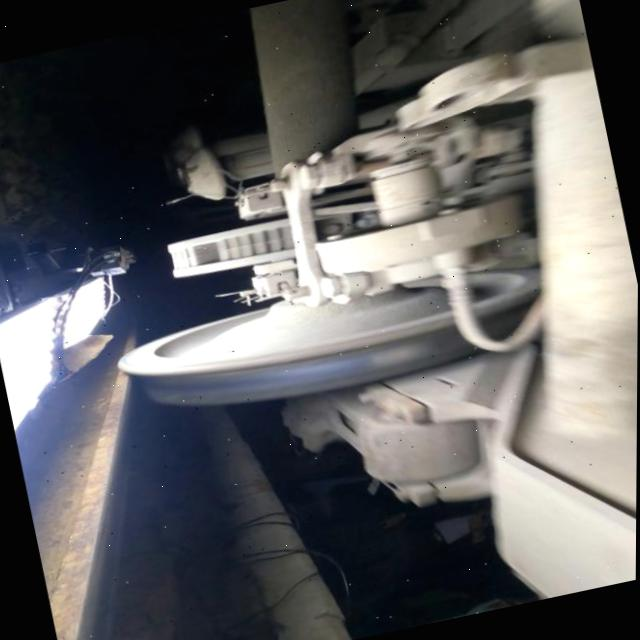Shelling: (371, 336, 436, 369)
Wheel: (117, 286, 473, 404)
